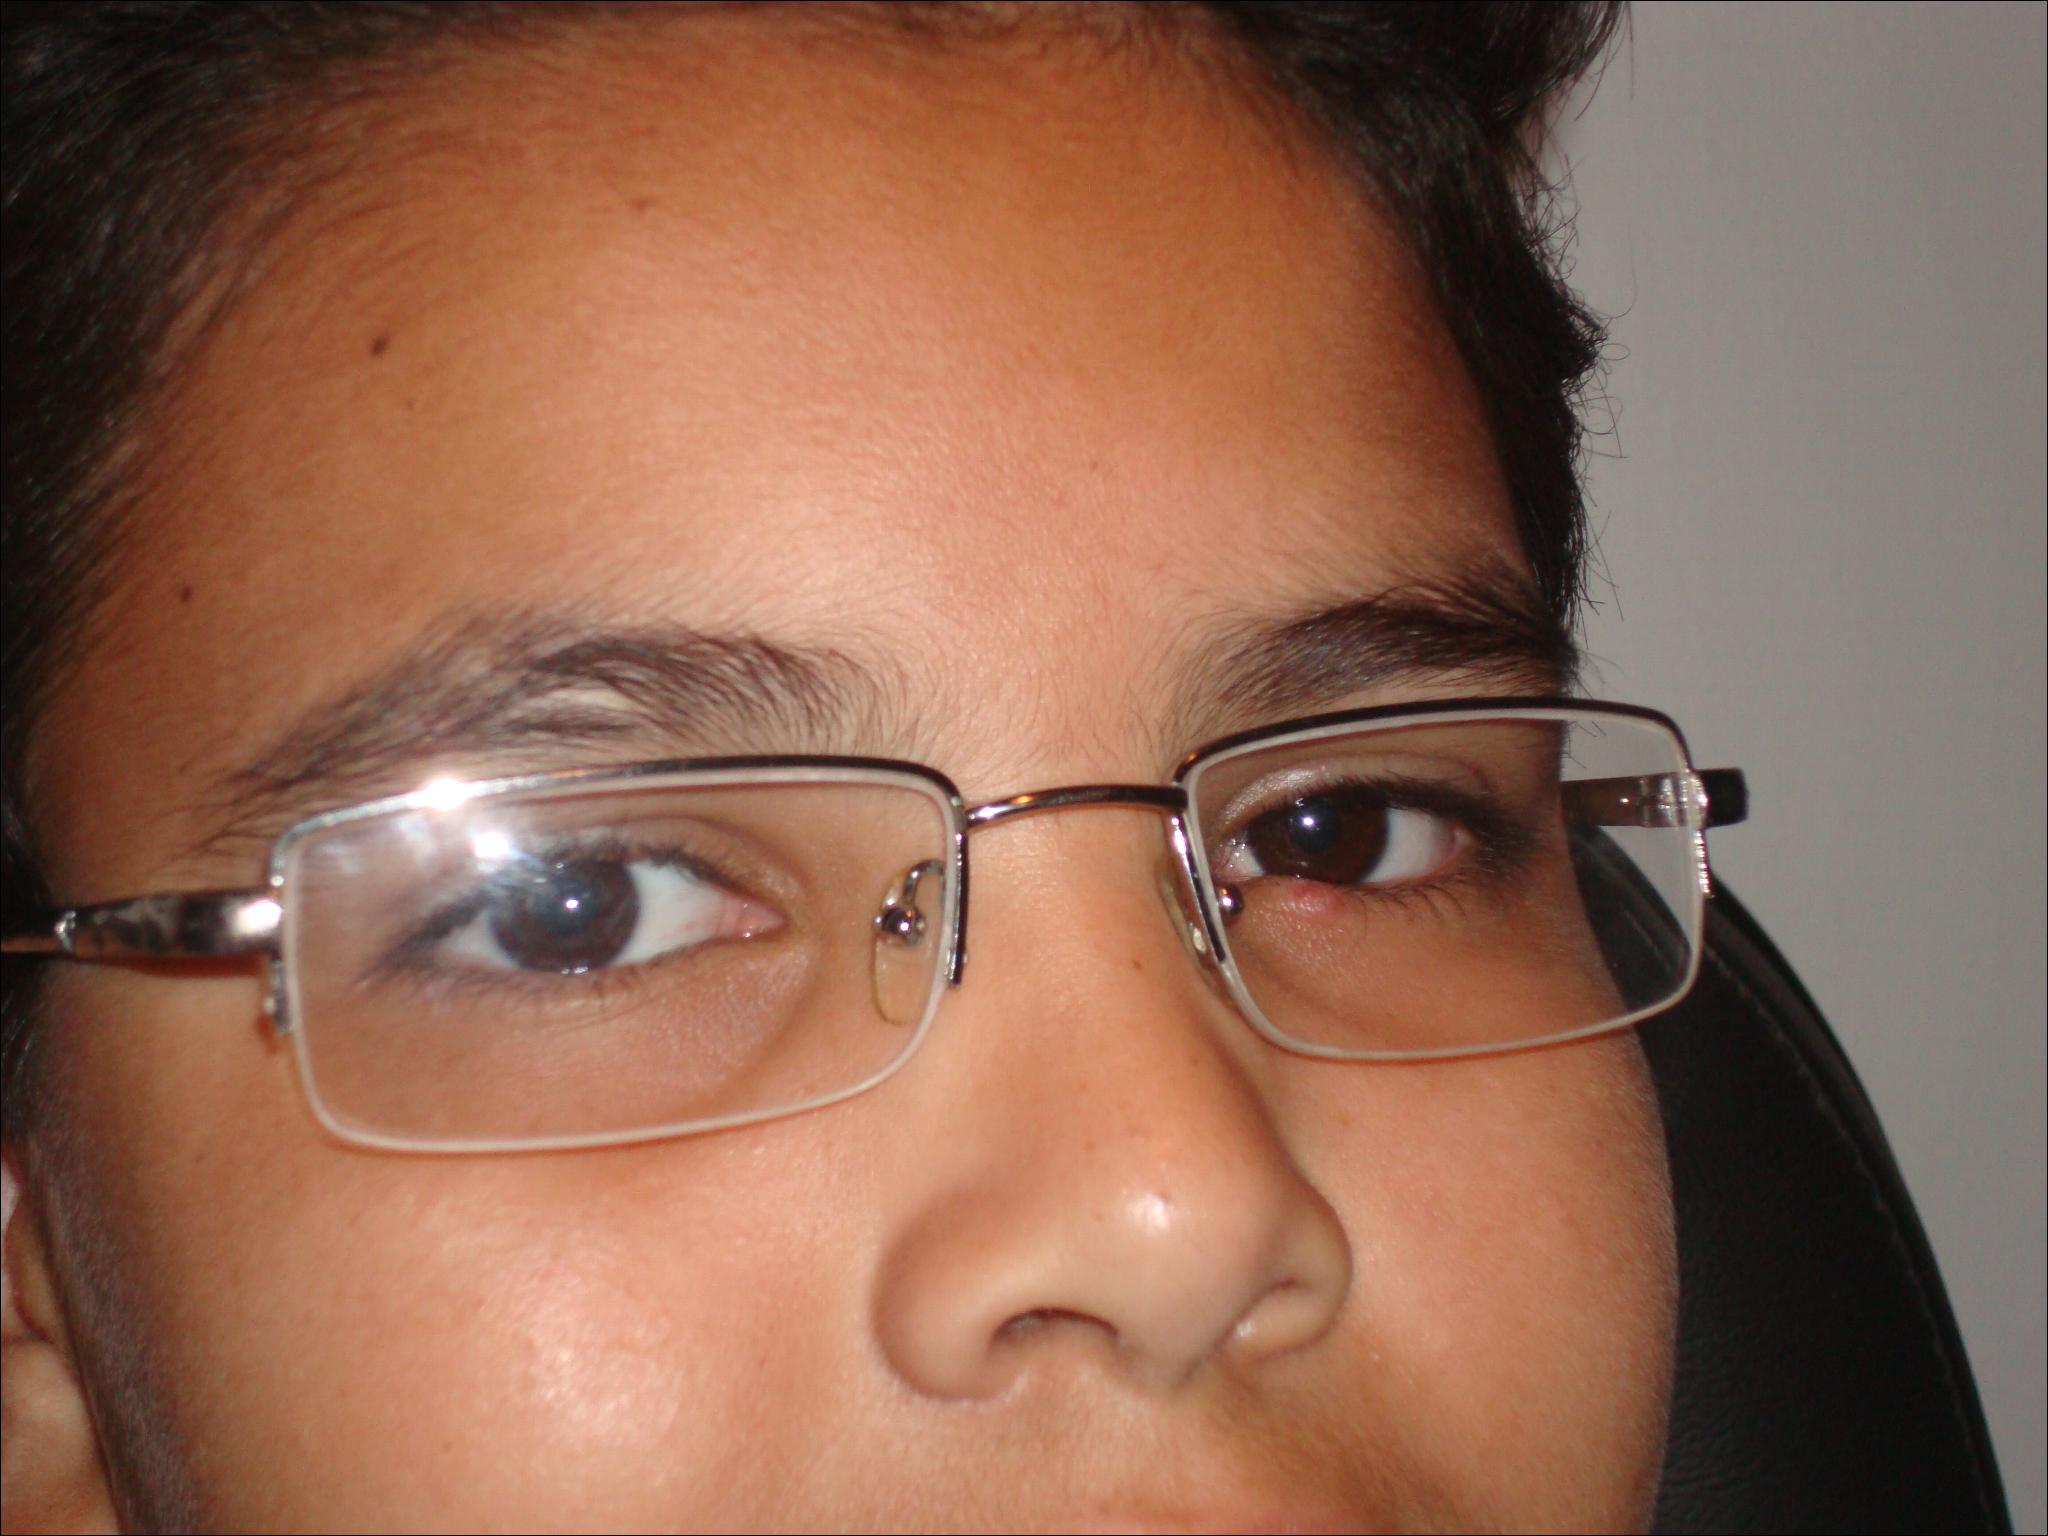flash: (560, 892, 584, 915), (1298, 812, 1317, 831)
limbo: (481, 839, 647, 975), (1242, 768, 1387, 889)
